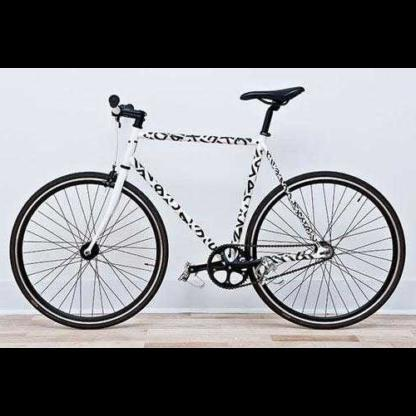Bicycle: (2, 78, 414, 337)
